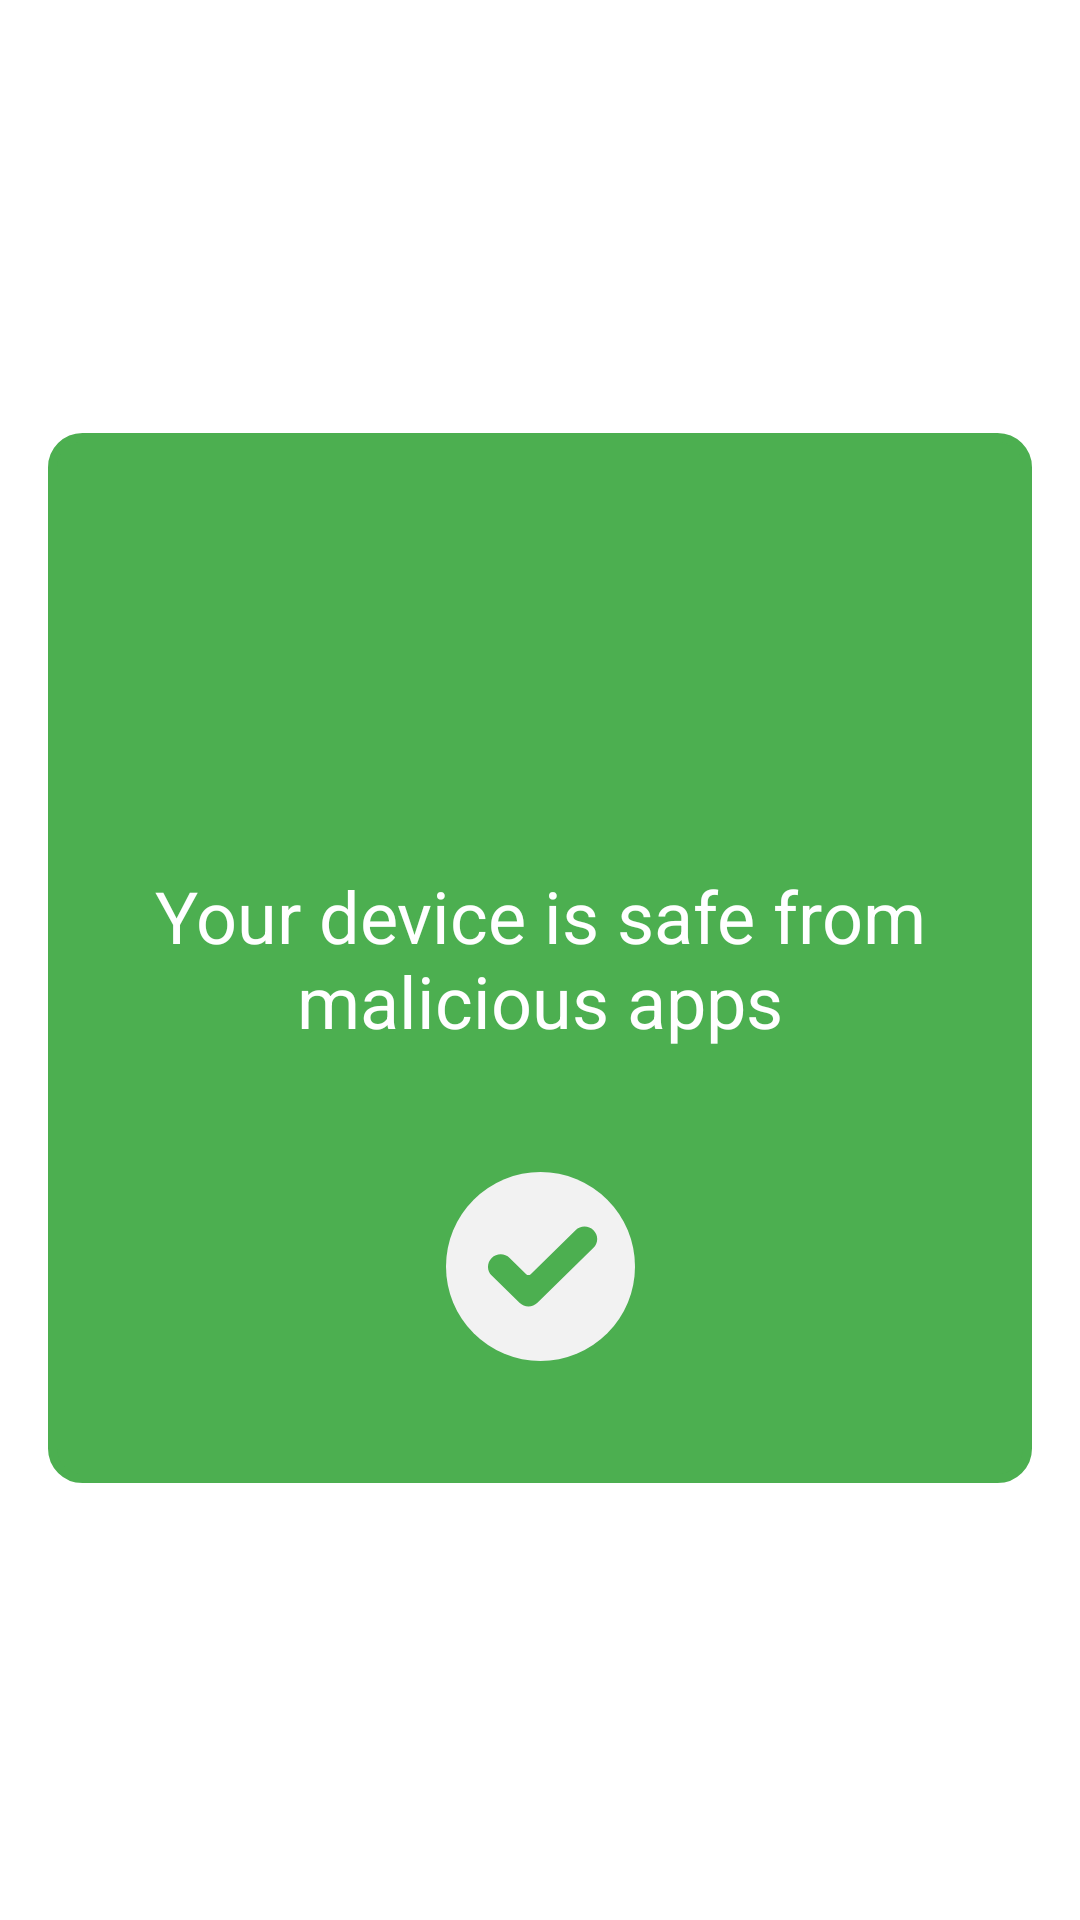

Point at icon controls on the screen. Image size 1080w x 1920h, points as (x=x, y=y).
check: (x=540, y=1266)
